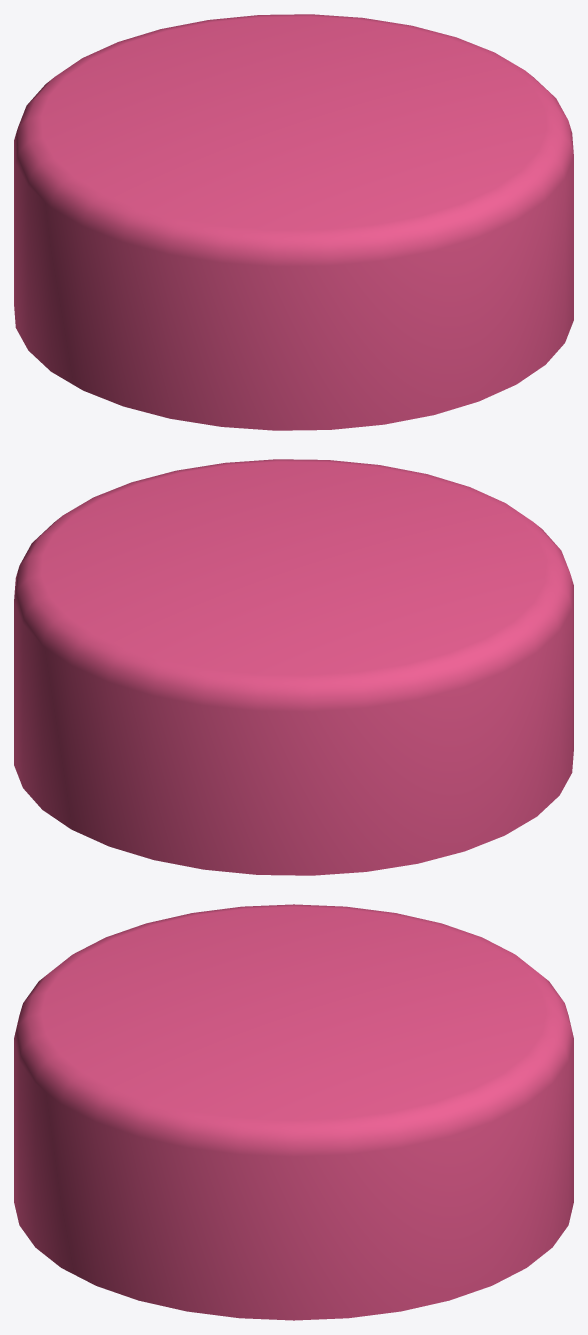
File: Potentiometer2.fbx
3 views of the same model, one above another, from view 1: azimuth 30°, elevation 25°; view 2: azimuth 150°, elevation 25°; view 3: azimuth 270°, elevation 25° (orthographic).
Visible parts, largest first — view 1: Potentio;eter2; view 2: Potentio;eter2; view 3: Potentio;eter2.
Part boxes in pixels (bbox=[...]): Potentio;eter2: bbox=[14, 14, 573, 430]; Potentio;eter2: bbox=[14, 459, 573, 875]; Potentio;eter2: bbox=[14, 904, 573, 1320].
Bounding box in the file's own units: 3.1 × 1.15 × 3.1.
